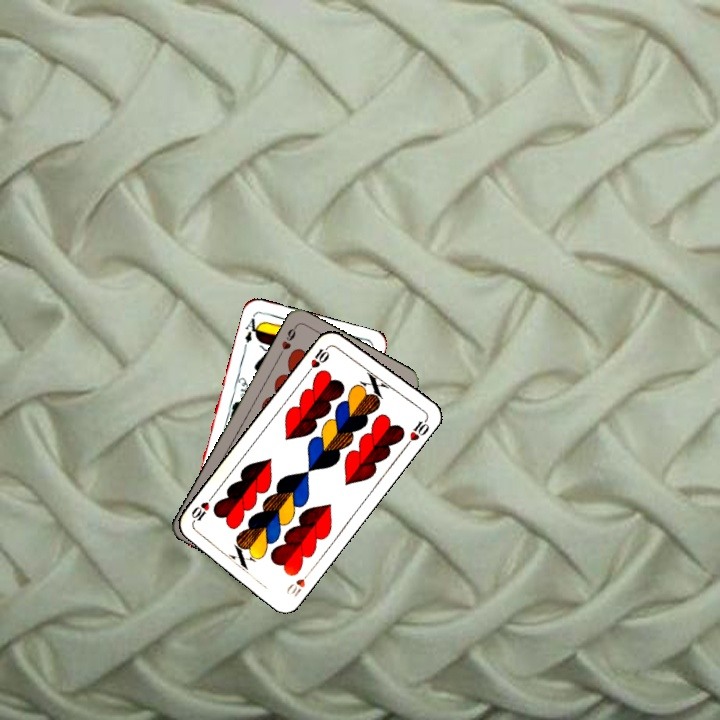EA: (241, 314, 263, 345)
H10: (282, 566, 315, 600), (303, 341, 333, 376)
H9: (274, 322, 299, 360)
